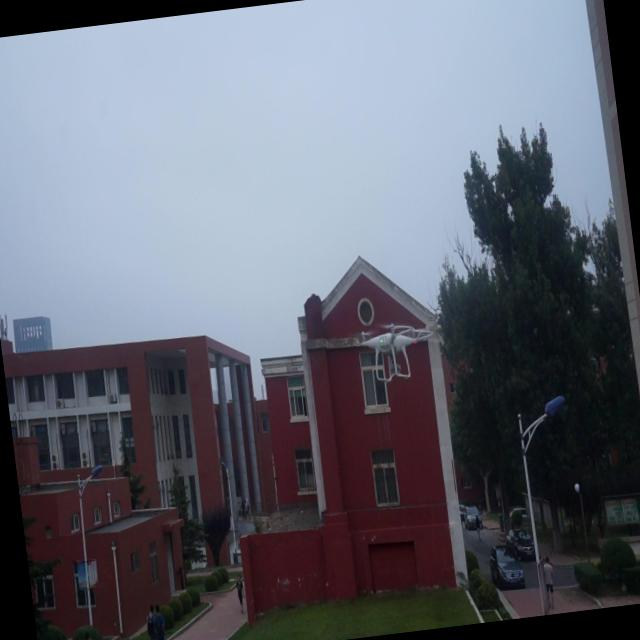drone: (354, 314, 441, 387)
